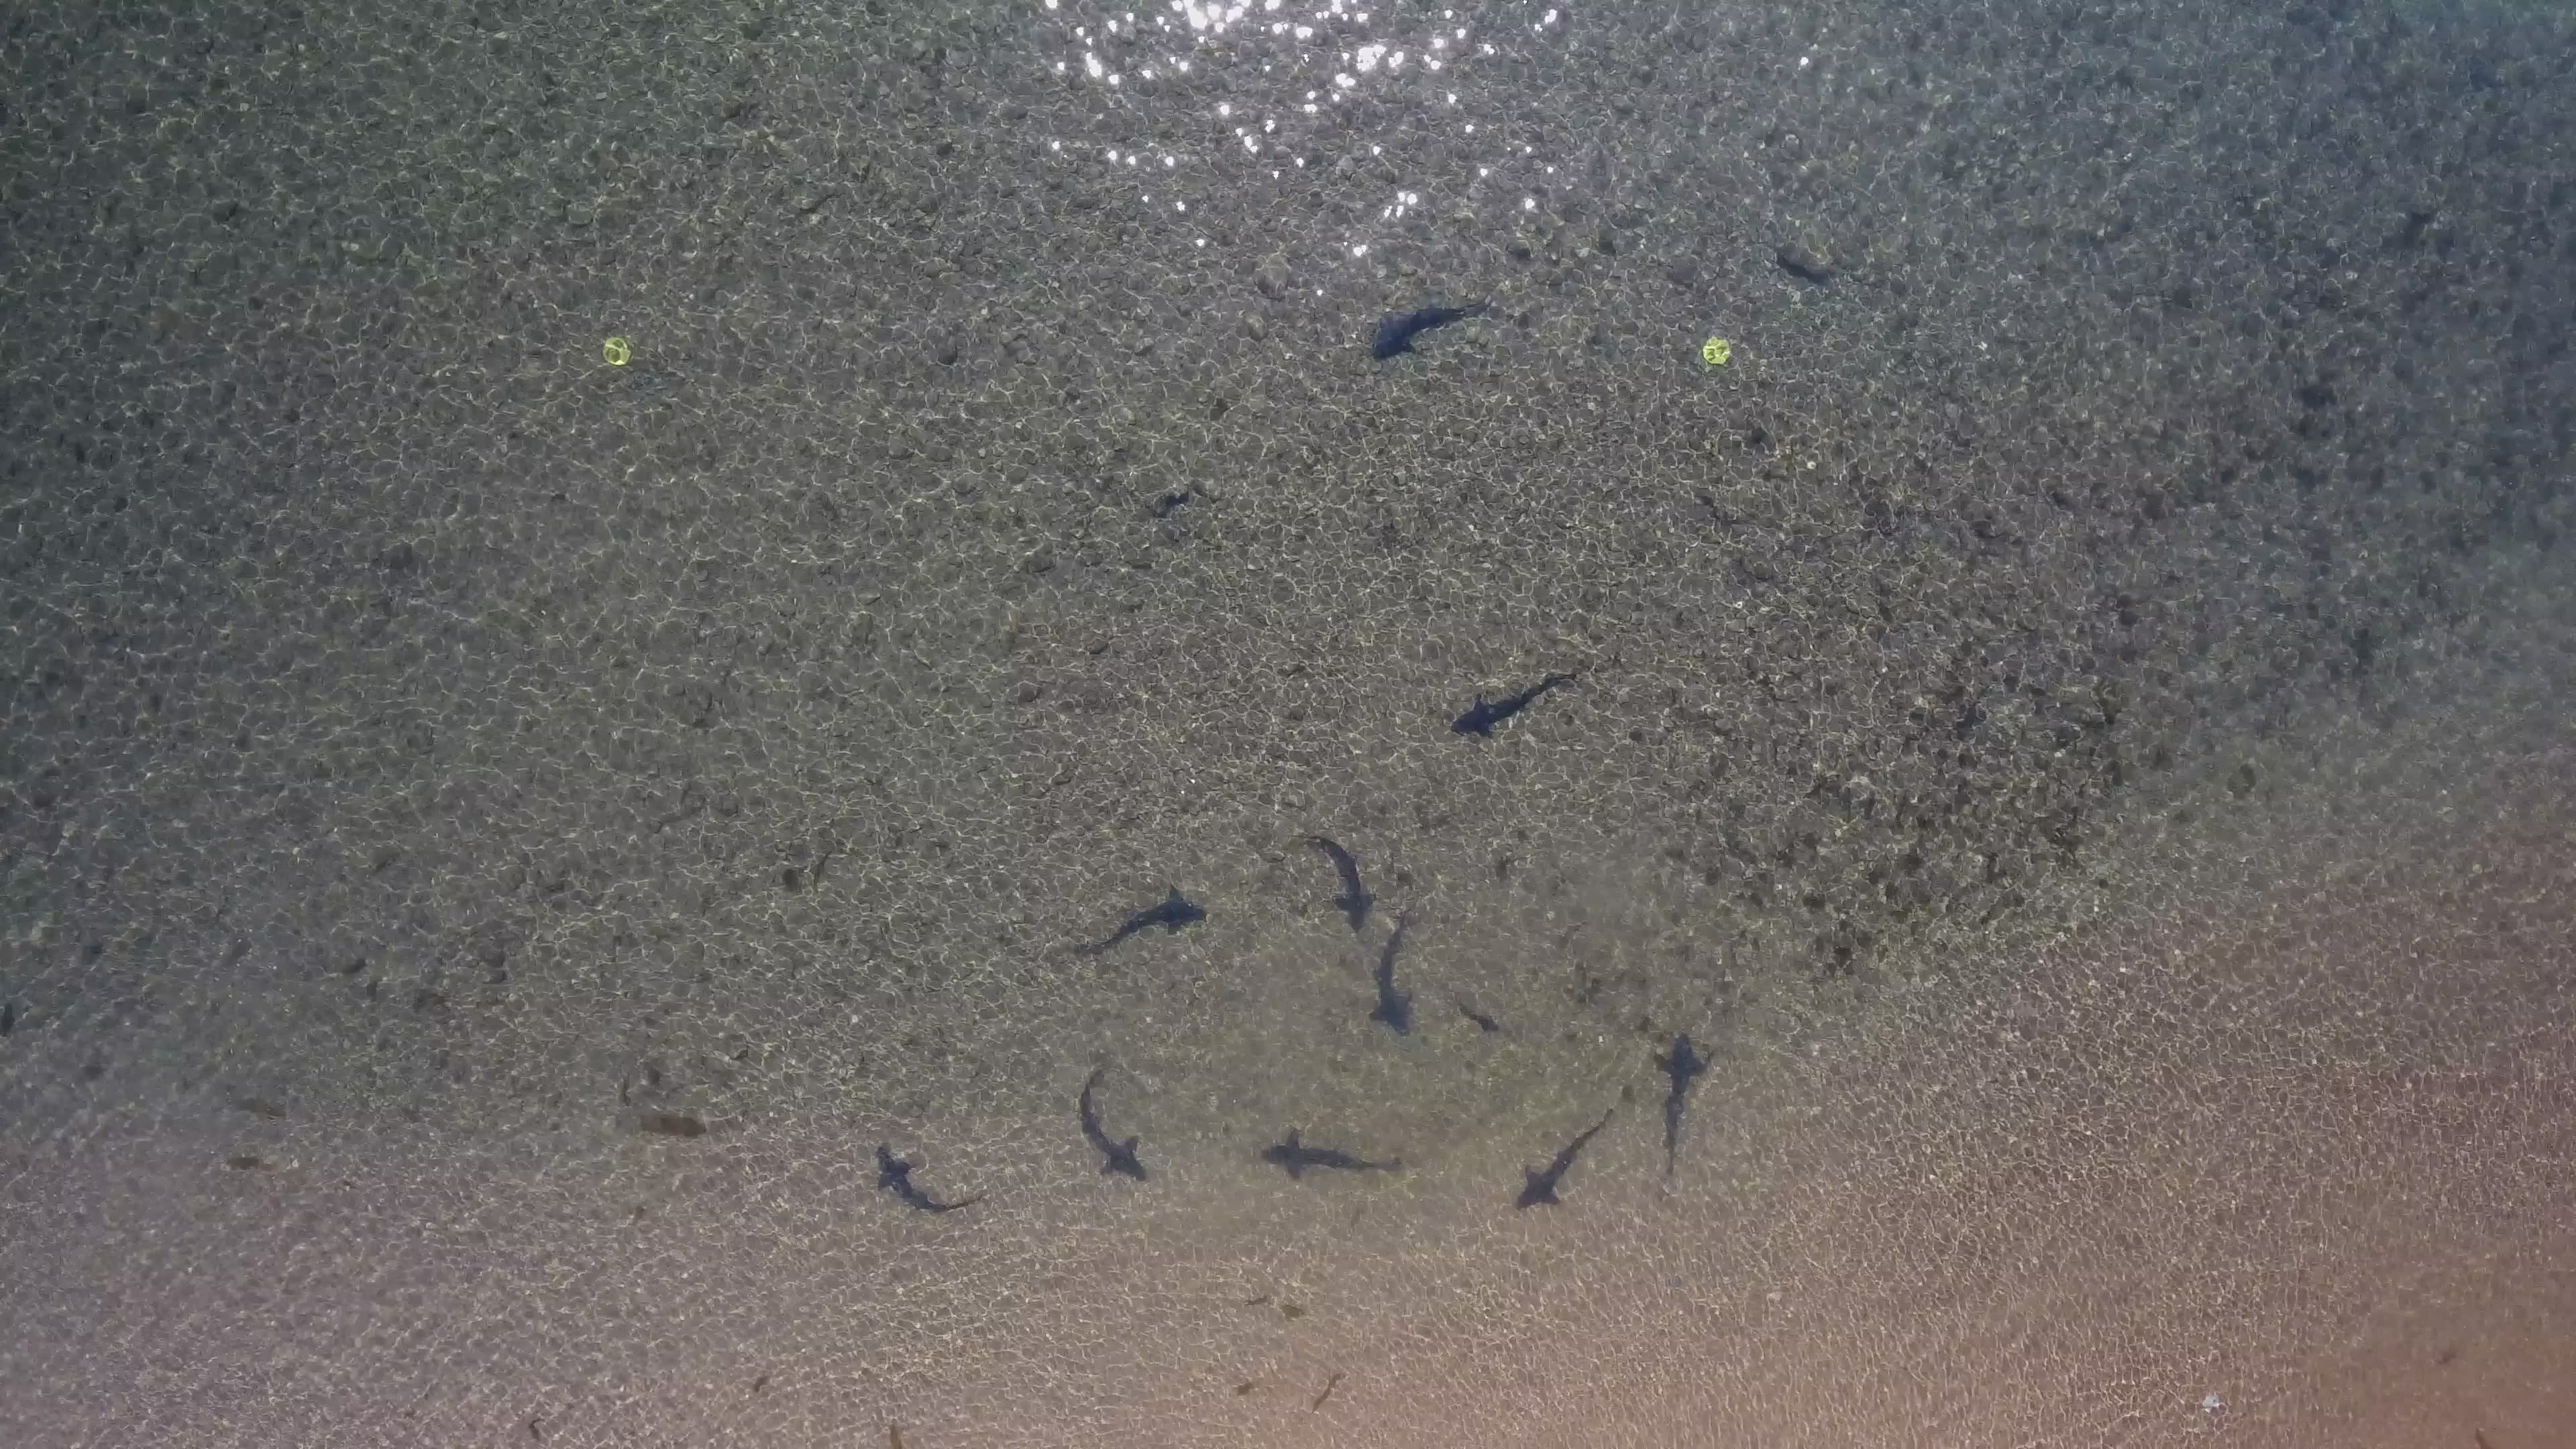shark: (1375, 745, 1437, 840)
